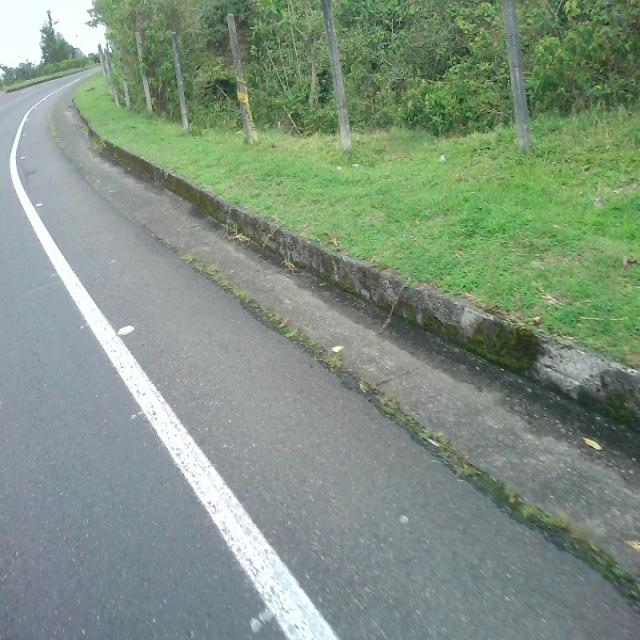DITCH: (48, 64, 638, 624), (88, 73, 639, 638)
